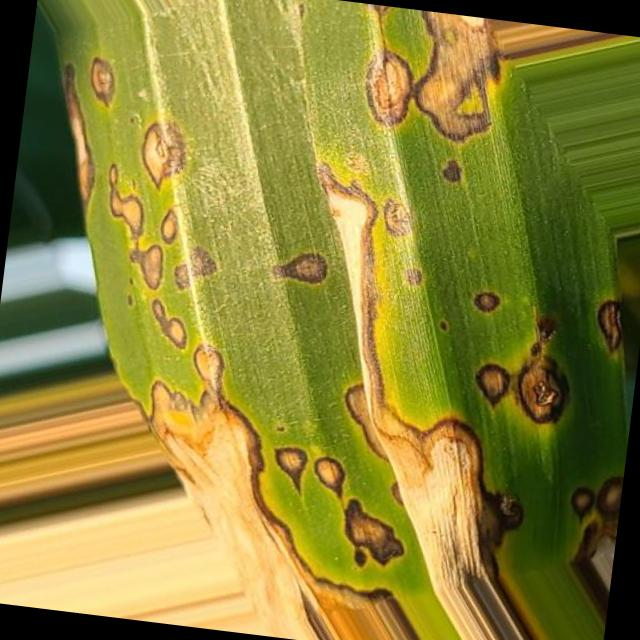Banana_Black_Sigatoka: (281, 27, 640, 640), (26, 55, 310, 526)
